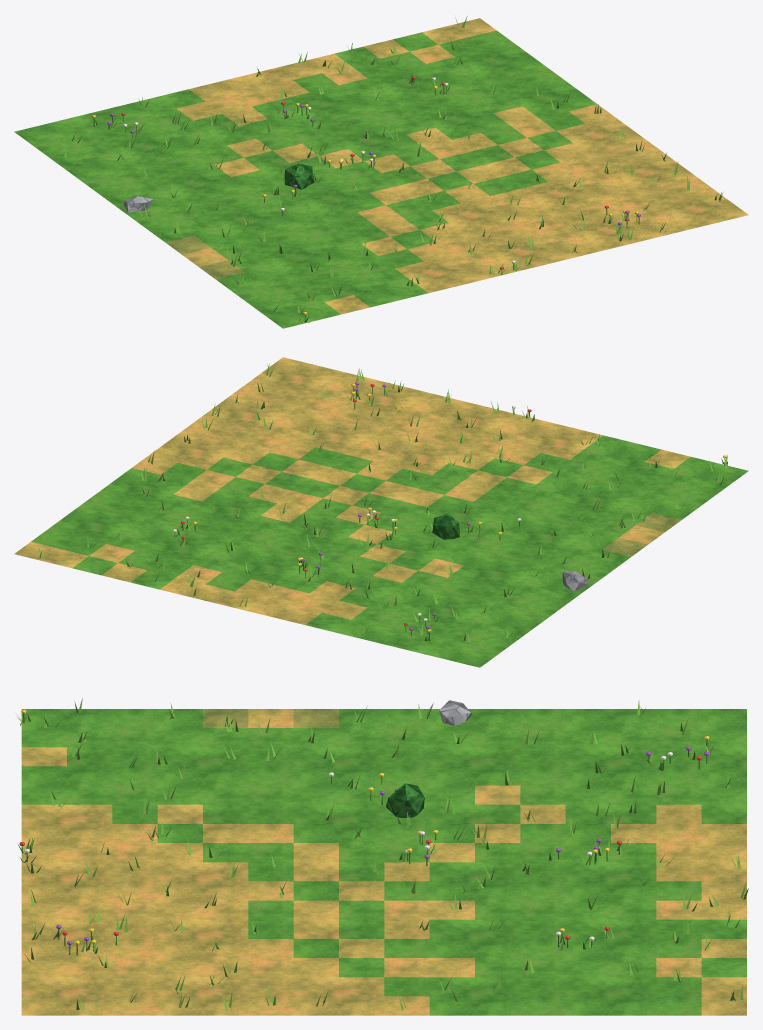
Rendered from chunk_8_12.glb.
The picture shows the model from 3 angles, top to bottom: view 1: azimuth 30°, elevation 25°; view 2: azimuth 150°, elevation 25°; view 3: azimuth 270°, elevation 25°; orthographic projection. The views are drawn at different scales.
Visible parts, largest first — view 1: chunk_8_12; view 2: chunk_8_12; view 3: chunk_8_12.
Boxes of the visible parts, x1,y1,x2,y2 form: chunk_8_12: [14, 16, 748, 328]; chunk_8_12: [14, 357, 748, 667]; chunk_8_12: [16, 698, 748, 1015].
Bounding box in the file's own units: 16 × 0.9287 × 16.21.
Materials: 11 (6 with a texture image).
